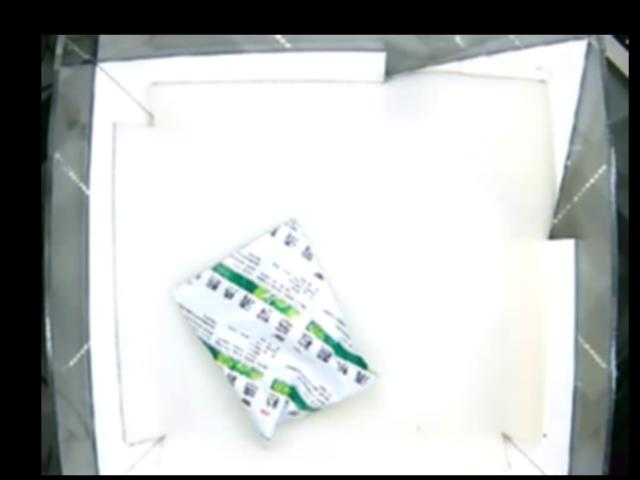Medicine: (171, 220, 373, 439)
